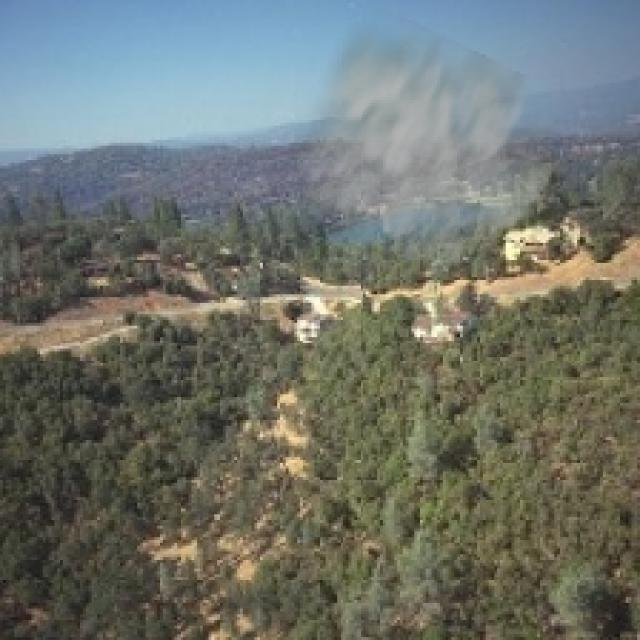smoke: (286, 3, 566, 280)
